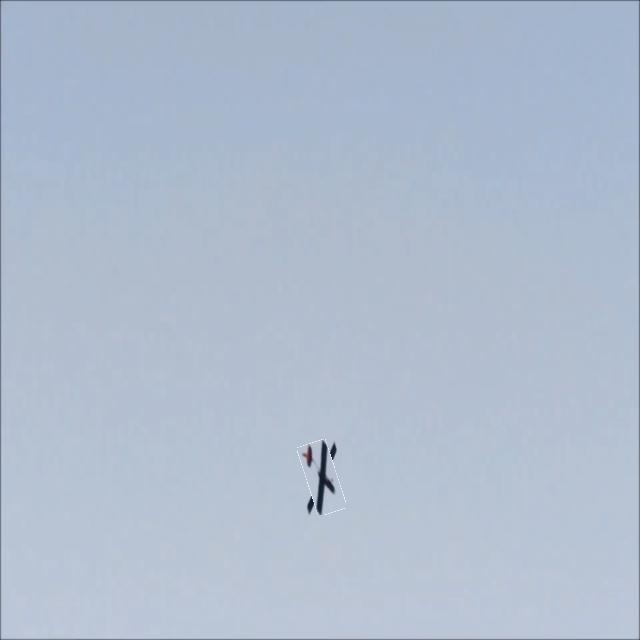iha: (291, 468, 349, 512)
